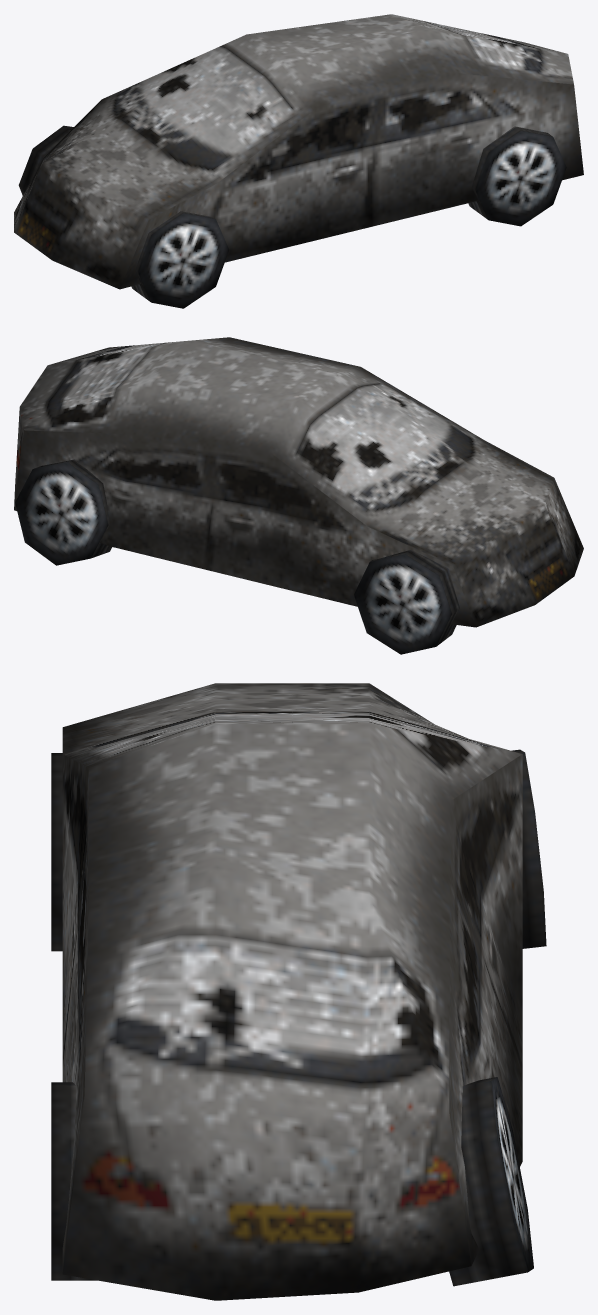
File: car6_1.fbx
3 renders of one model, top to bottom at view 1: azimuth 30°, elevation 25°; view 2: azimuth 150°, elevation 25°; view 3: azimuth 270°, elevation 25°, orthographic. The views are drawn at different scales.
Parts seen in each view (by area): view 1: car6_1; view 2: car6_1; view 3: car6_1.
Boxes of the visible parts, x1,y1,x2,y2 form: car6_1: (14, 14, 583, 308); car6_1: (14, 337, 583, 654); car6_1: (51, 683, 546, 1300).
Size of the model in its own units: 456 by 188 by 154.
1 material, 1 textured.
